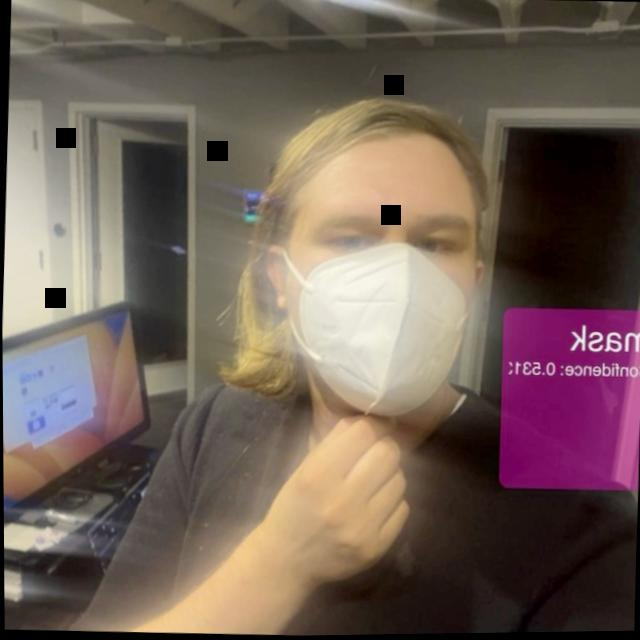Mask: (238, 74, 508, 445)
